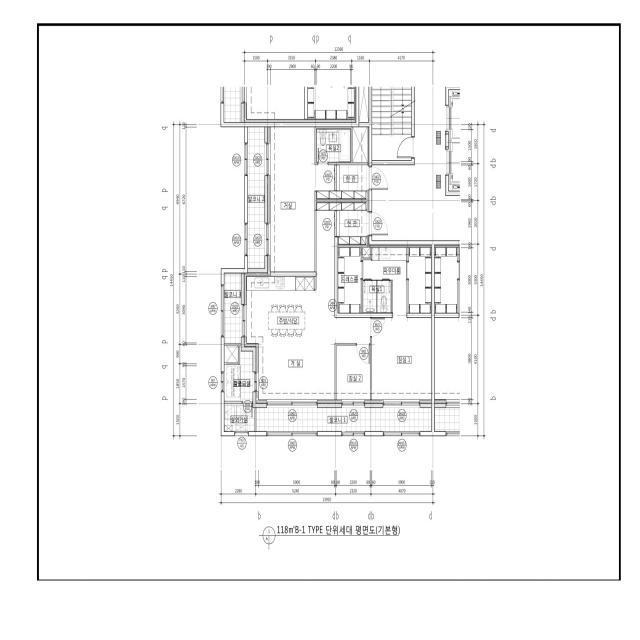space_balconi: (256, 408, 431, 432), (248, 126, 265, 268), (224, 351, 253, 401), (224, 273, 241, 343)
space_bedroom: (372, 318, 431, 403), (337, 345, 370, 403)
space_dressroom: (363, 245, 407, 317), (338, 248, 361, 313)
space_front: (335, 202, 369, 245), (335, 164, 369, 200)
space_kitchen: (244, 272, 316, 346)
space_living_room: (256, 202, 370, 403), (268, 127, 335, 272)
space_other: (408, 245, 431, 313), (353, 127, 369, 163), (224, 346, 238, 363), (363, 245, 370, 258)
space_outdoor_room: (224, 404, 254, 431)
space_toilet: (316, 129, 351, 162), (363, 281, 391, 313)
